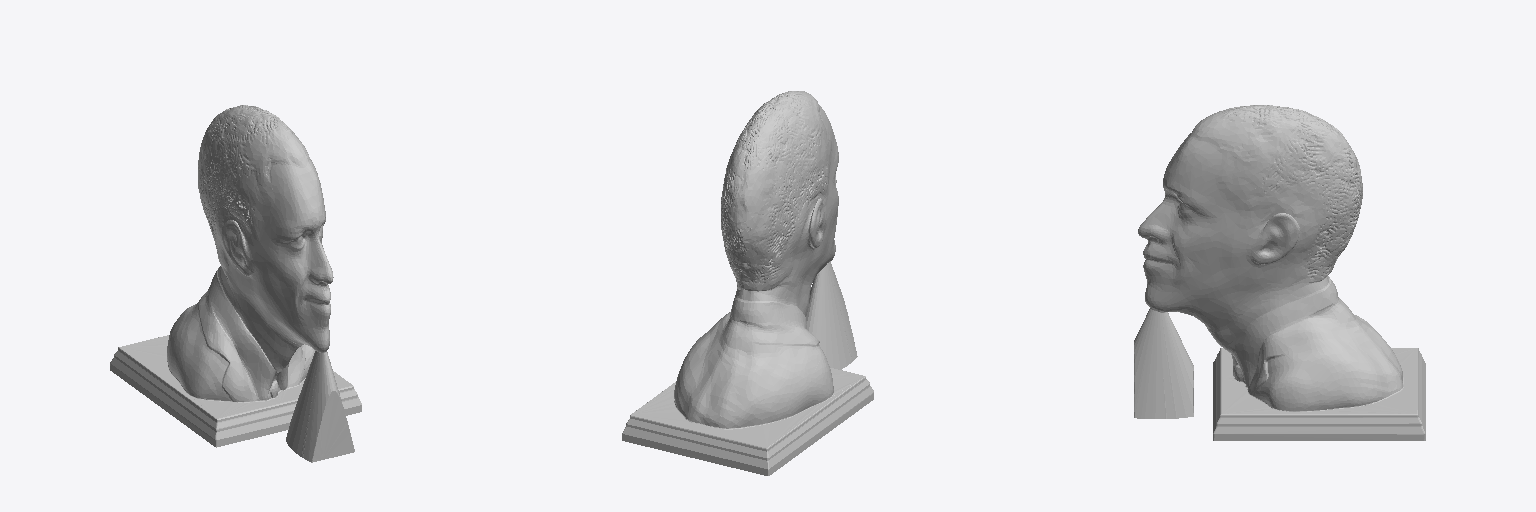
The model's file is stretch obama.obj.
3 renders of one model, left to right at view 1: azimuth 30°, elevation 25°; view 2: azimuth 150°, elevation 25°; view 3: azimuth 270°, elevation 25°, orthographic.
Visible parts, largest first — view 1: Obama; view 2: Obama; view 3: Obama.
Part boxes in pixels (x1,y1,x2,y2): Obama: (110, 105, 361, 462); Obama: (622, 91, 873, 475); Obama: (1134, 105, 1425, 440).
Bounding box in the file's own units: 8.3 × 16.1 × 14.23.